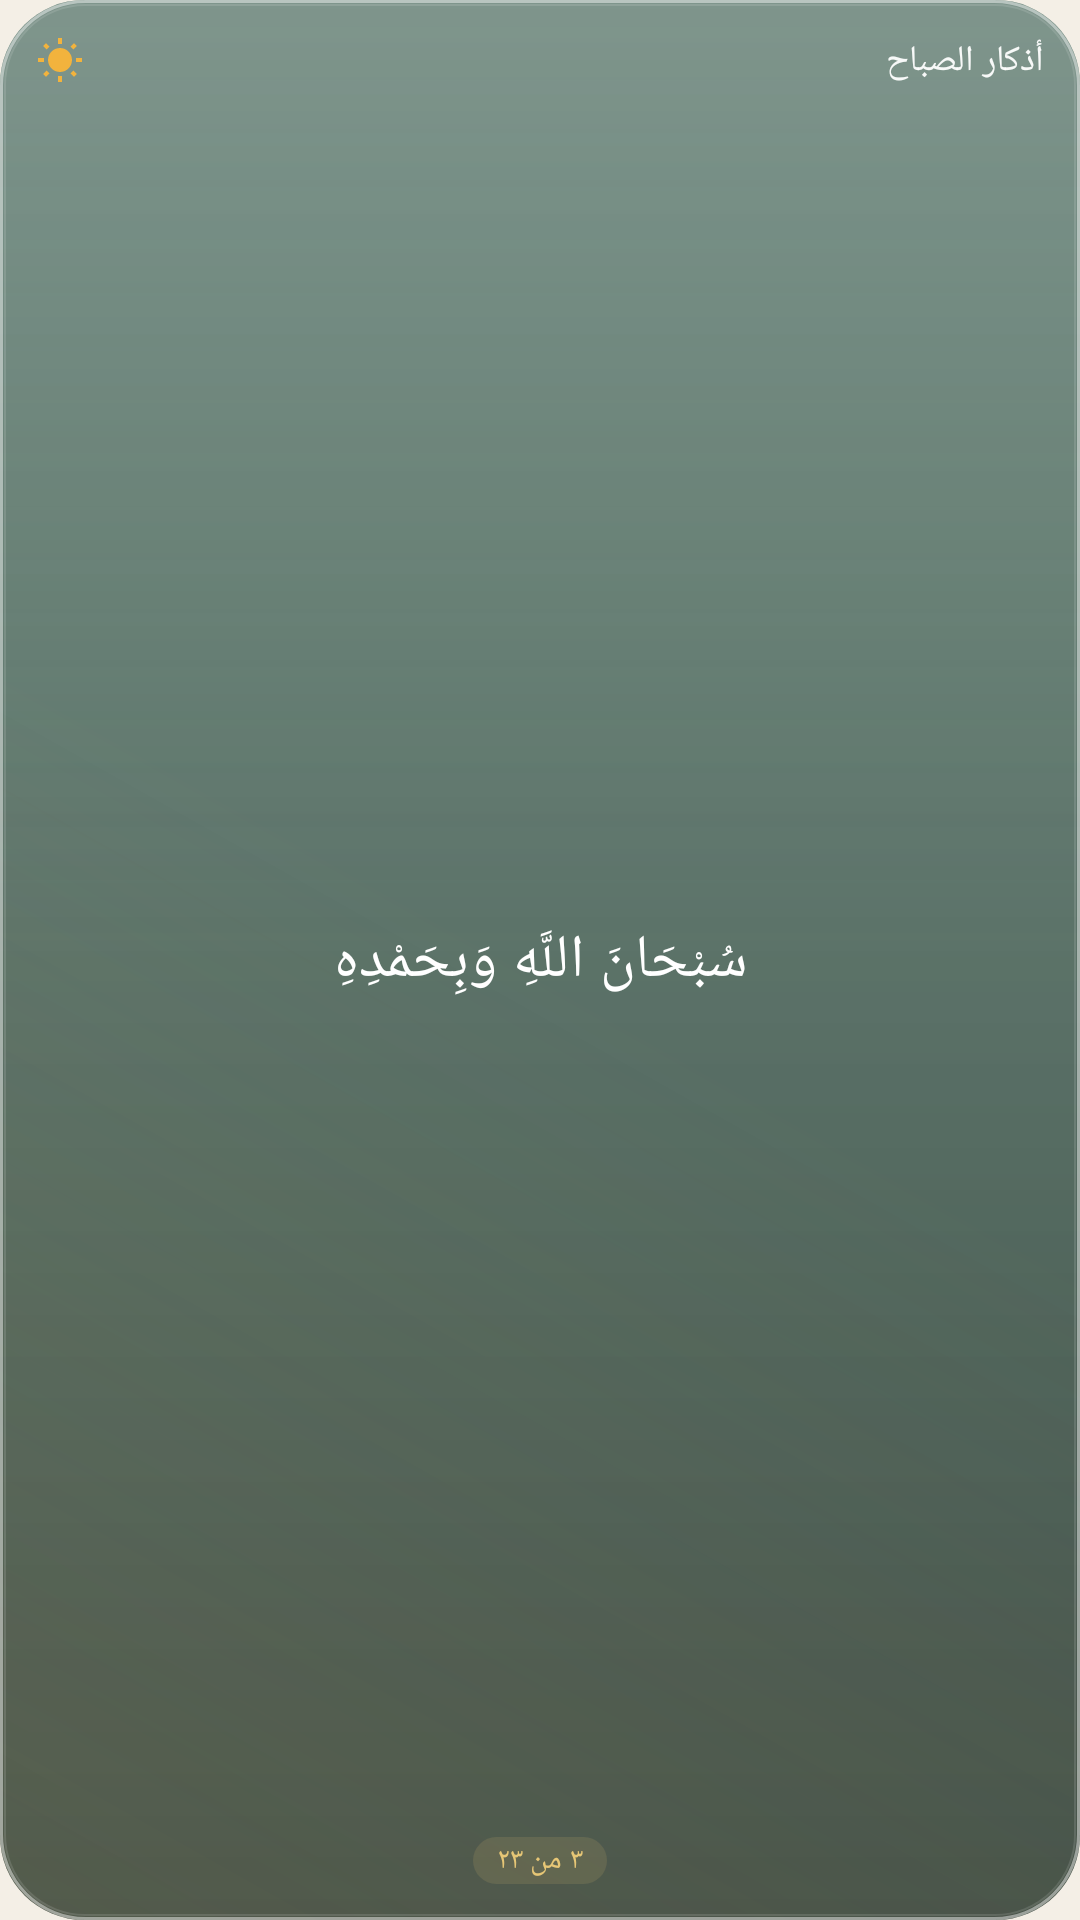

Screen size 1080px×1920px. Icon name, then its box in pixels as (x1, y1, x2, y2):
sun: (38, 38, 82, 82)
